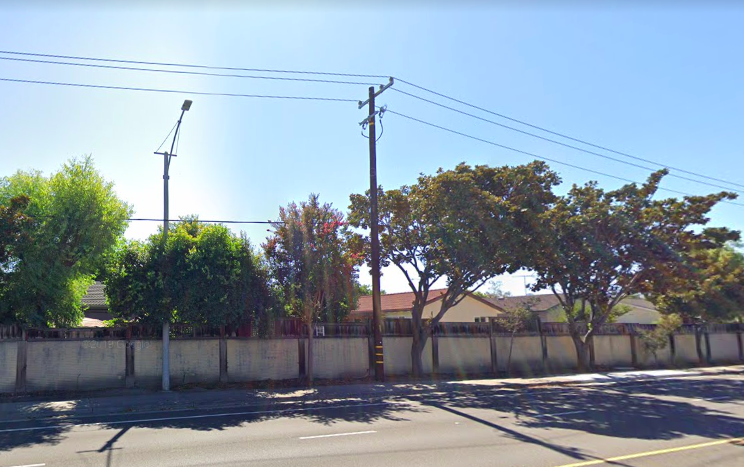utility_pole: (352, 72, 399, 140)
